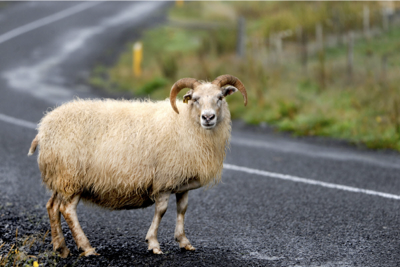koyun: (30, 75, 246, 258)
